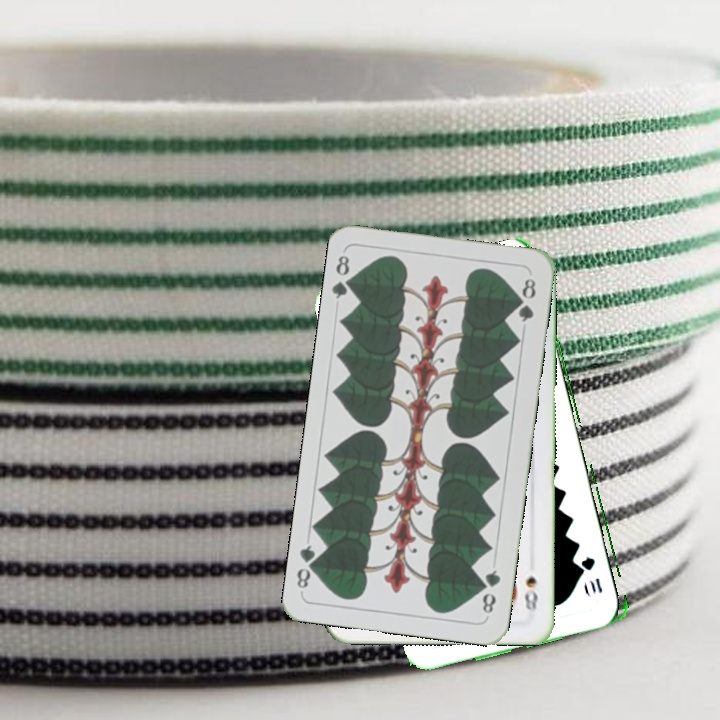G10: (580, 553, 605, 596)
G8: (328, 251, 358, 301), (477, 565, 503, 616)
S8: (520, 573, 541, 615)
